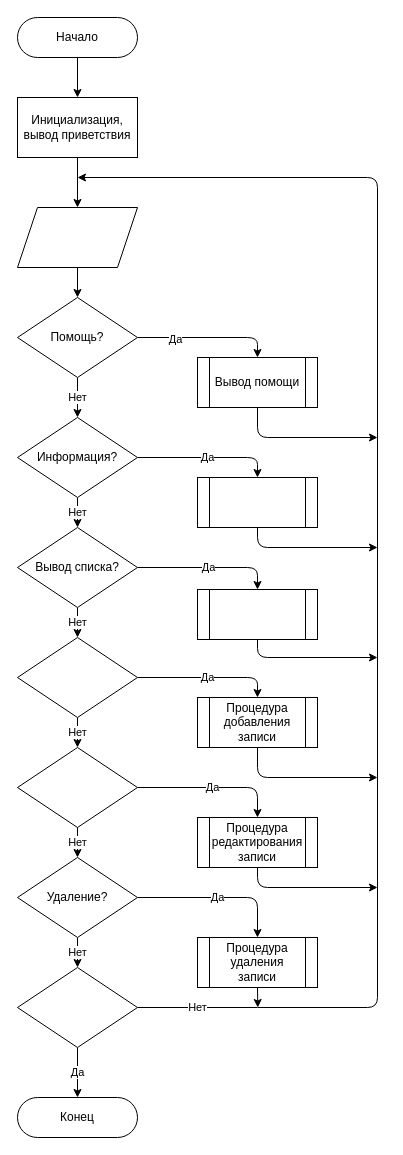
This 403x1155 diagram has some shape labels left out. The centre of each missing label's shape, as x and y in pixels:
"Вывод информации о разработчиках" goes at (257,502).
"Выход?" goes at (77,1007).
"Добавление?" goes at (77,677).
"Ожидание ввода команды" goes at (77,237).
"Процедура вывода списка" goes at (257,614).
"Редактирование?" goes at (77,787).
